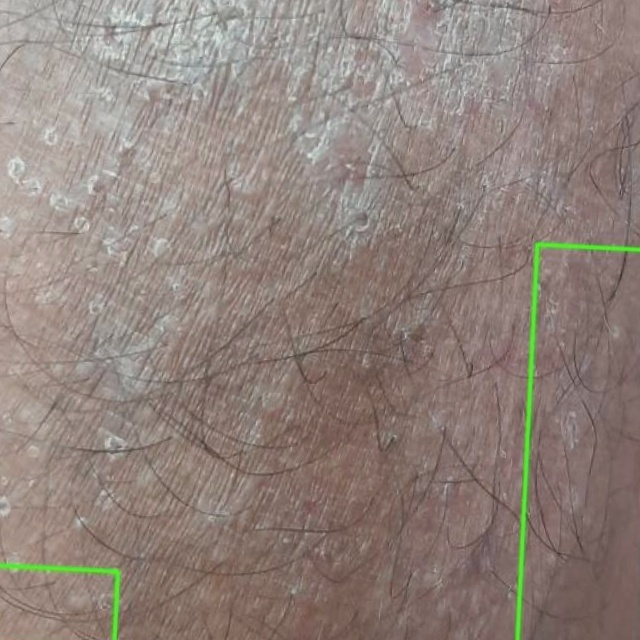Contact Dermatitis: (517, 244, 639, 639), (0, 565, 118, 639)
